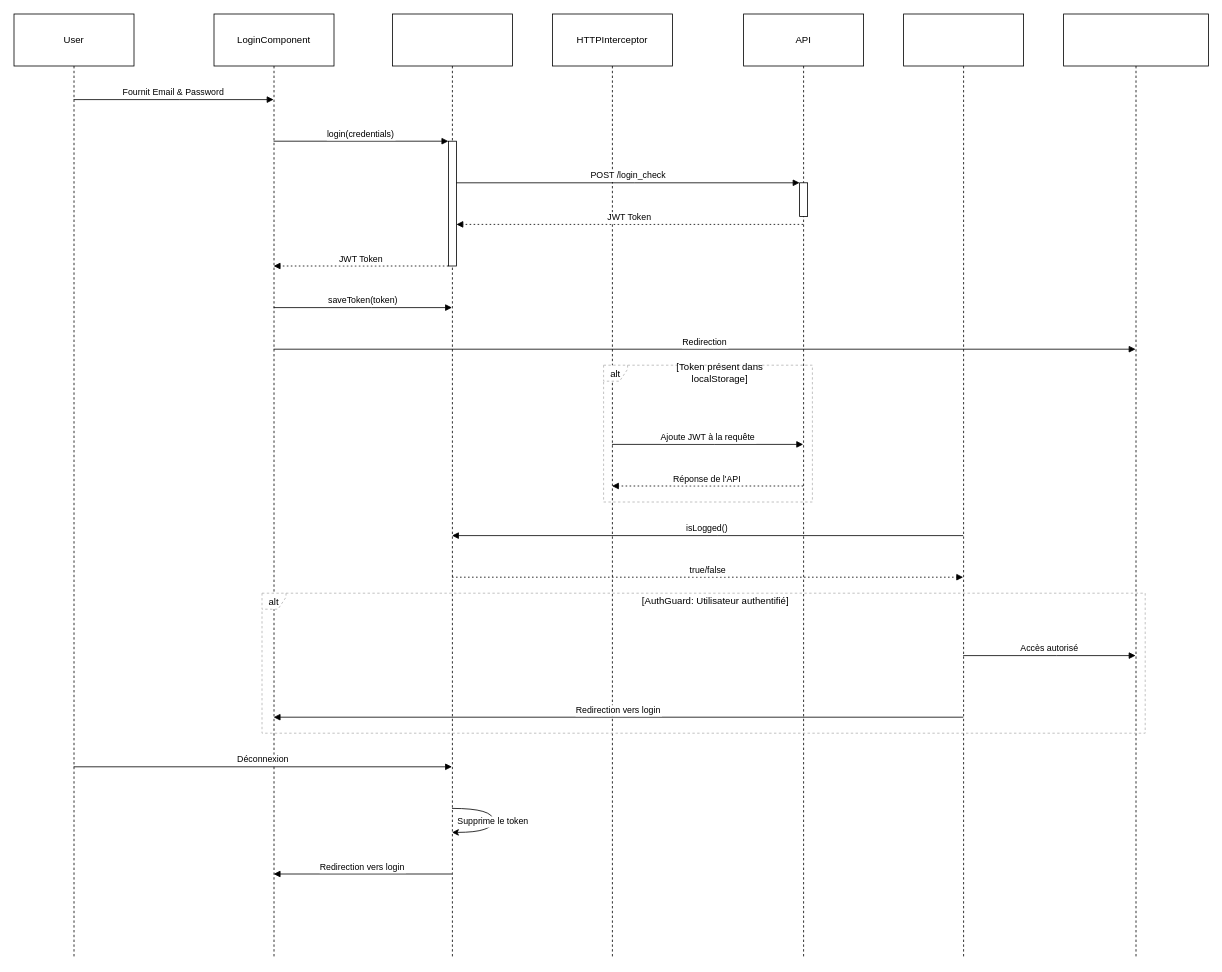
Some shapes in this 1222 by 972 pixel diagram are drawn without their labels. Here are the shapes that lost their labels. From the top down, the box of each, then its label:
(392, 13, 512, 958): AuthService
(903, 13, 1024, 958): AuthGuard
(1063, 13, 1208, 958): DashboardComponent
